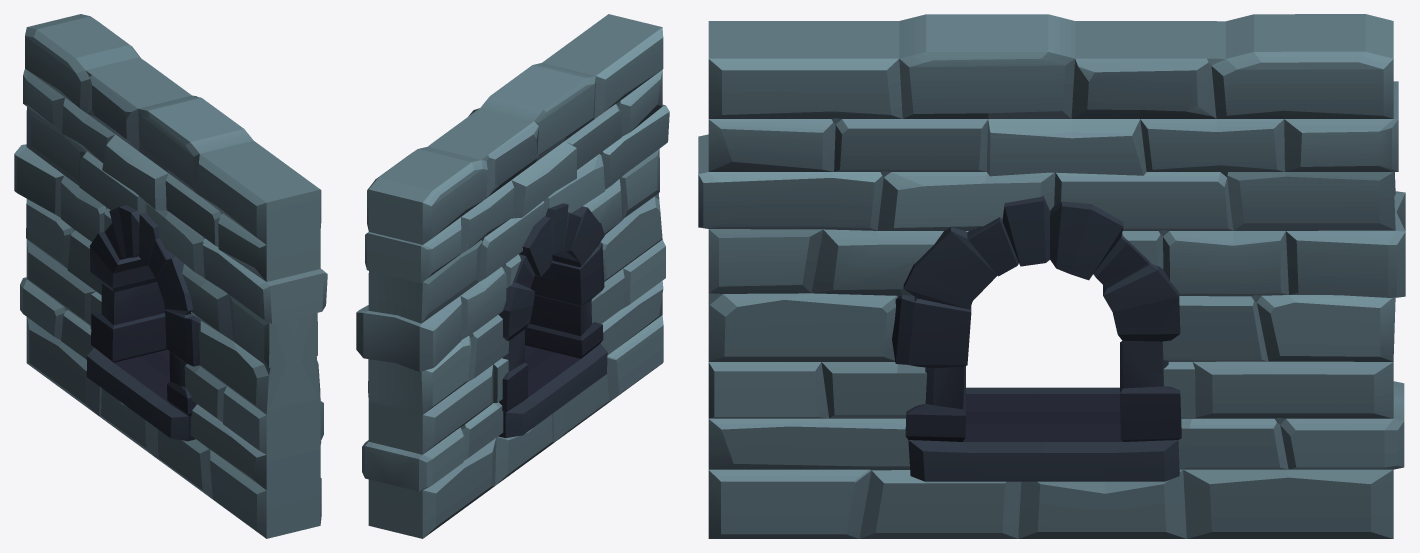
File: Modular_Dungeon_Wall_WindowFrame.fbx
3 views of the same model, side by side, from view 1: azimuth 30°, elevation 25°; view 2: azimuth 150°, elevation 25°; view 3: azimuth 270°, elevation 25° (orthographic). The views are drawn at different scales.
Parts seen in each view (by area): view 1: Wall_WindowFrame; view 2: Wall_WindowFrame; view 3: Wall_WindowFrame.
Boxes of the visible parts, left/top/right/bottom form: Wall_WindowFrame: left=14, top=14, right=327, bottom=538; Wall_WindowFrame: left=356, top=14, right=669, bottom=538; Wall_WindowFrame: left=698, top=14, right=1405, bottom=538.
Bounding box in the file's own units: 1.48 × 5.11 × 6.72.
1 material, 1 textured.
